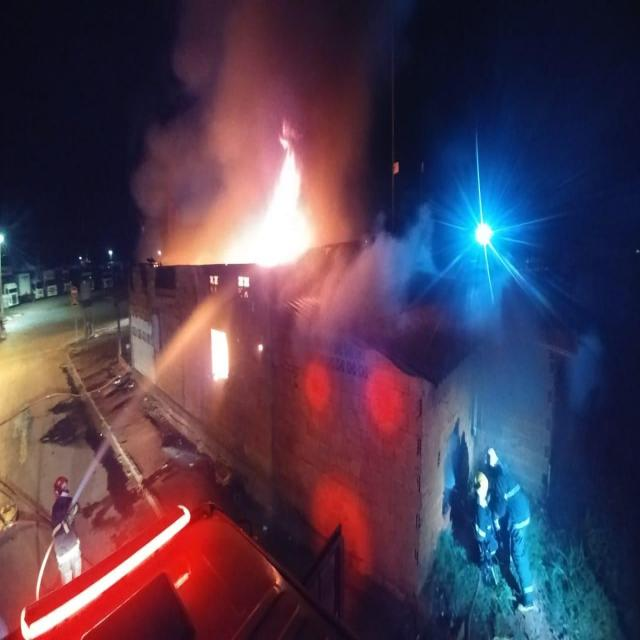Fire: (214, 150, 317, 270)
